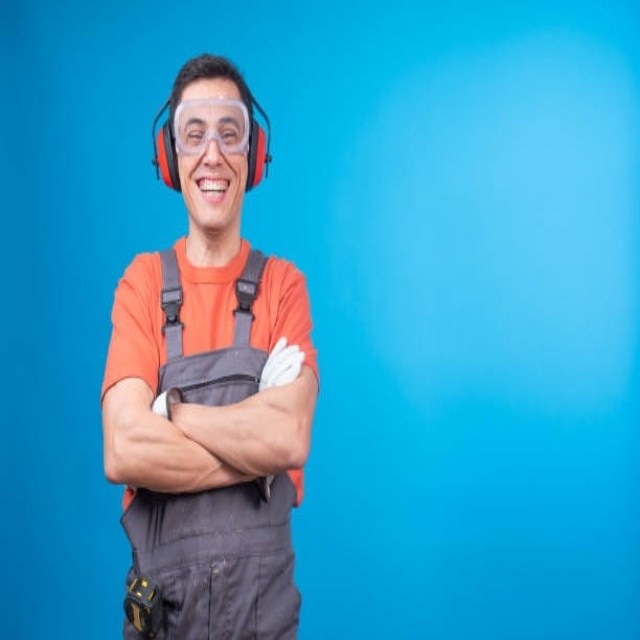Gafas: (172, 93, 253, 158)
Guantes: (258, 336, 305, 391), (152, 389, 174, 420)
Sin_mascara: (187, 166, 237, 227)
